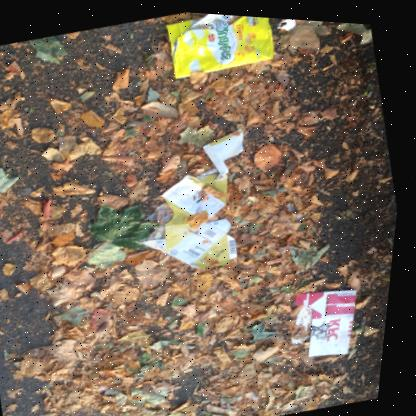Paper: (145, 125, 245, 265), (297, 284, 361, 351)
Plastic: (165, 11, 273, 75), (141, 202, 177, 239)
Waste: (276, 15, 295, 26), (214, 330, 222, 340)
